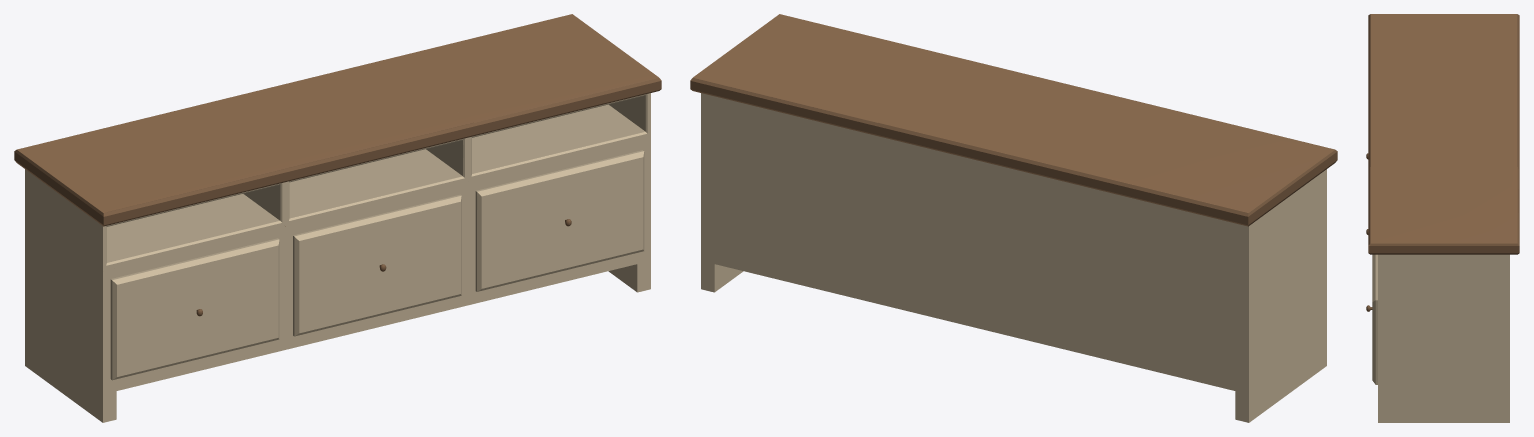
The model's file is CabinetUnderTV.glb.
3 renders of one model, left to right at view 1: azimuth 30°, elevation 25°; view 2: azimuth 150°, elevation 25°; view 3: azimuth 270°, elevation 25°, orthographic. The views are drawn at different scales.
Parts seen in each view (by area): view 1: CabinetUnderTV; view 2: CabinetUnderTV; view 3: CabinetUnderTV.
Boxes of the visible parts, x1,y1,x2,y2 form: CabinetUnderTV: (14,14,661,422); CabinetUnderTV: (690,14,1337,422); CabinetUnderTV: (1366,14,1519,422).
Bounding box in the file's own units: 2.14 × 0.784 × 0.6024.
1 material, 1 textured.
